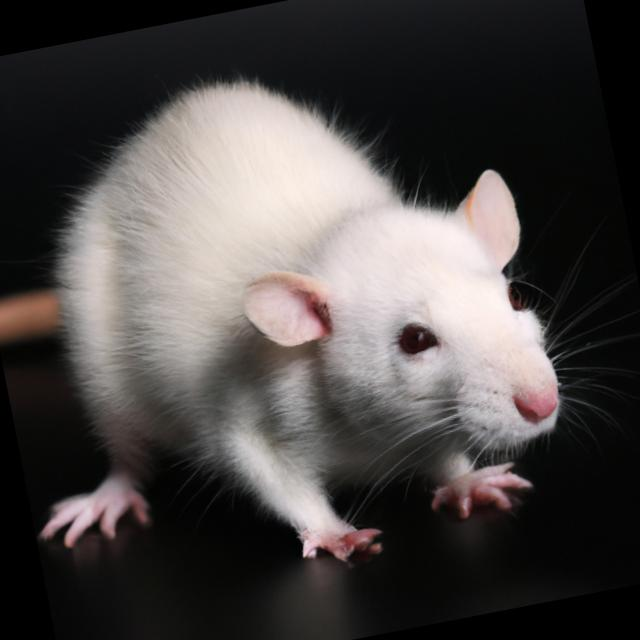rodent: (6, 19, 636, 629)
